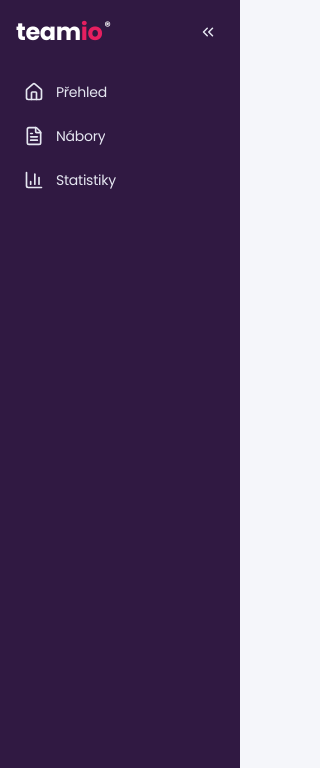
Test case: LeftMenu › toggles collapsed state when uncontrolled
Click the button named "Sbalit navigaci". click: (208, 32)
box: [192,16,224,48]
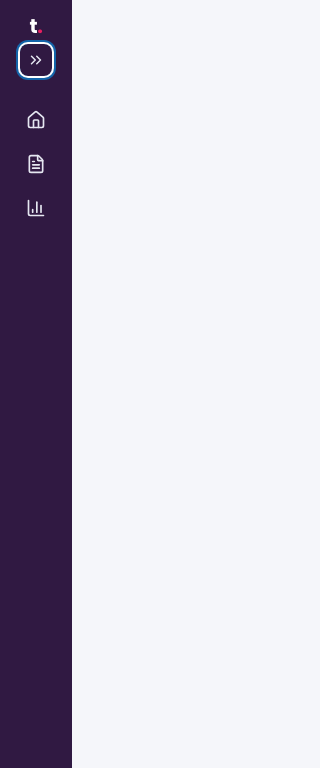
Result: the button named "Rozbalit navigaci" is collapsed at [20,44,52,76]
